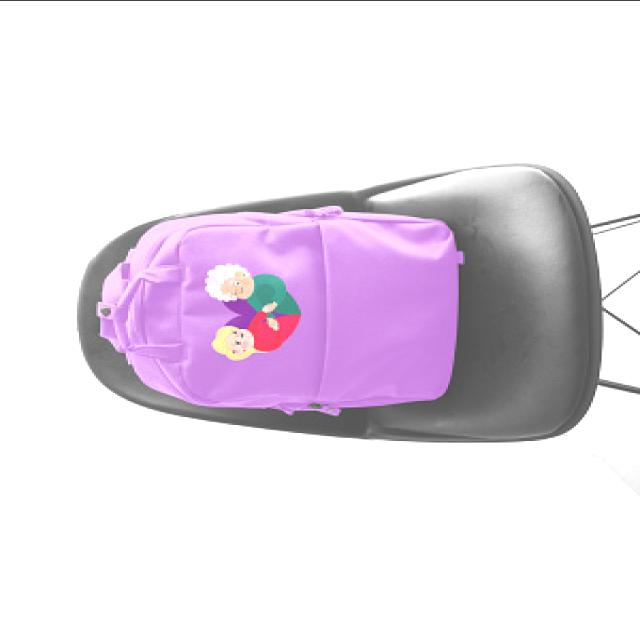backpack: (95, 206, 464, 417)
